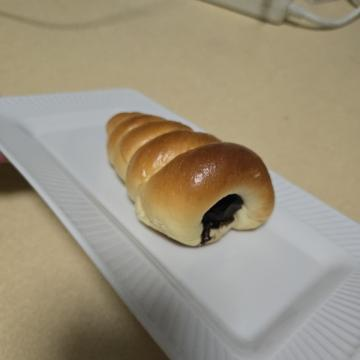cream horn: (105, 77, 262, 269)
